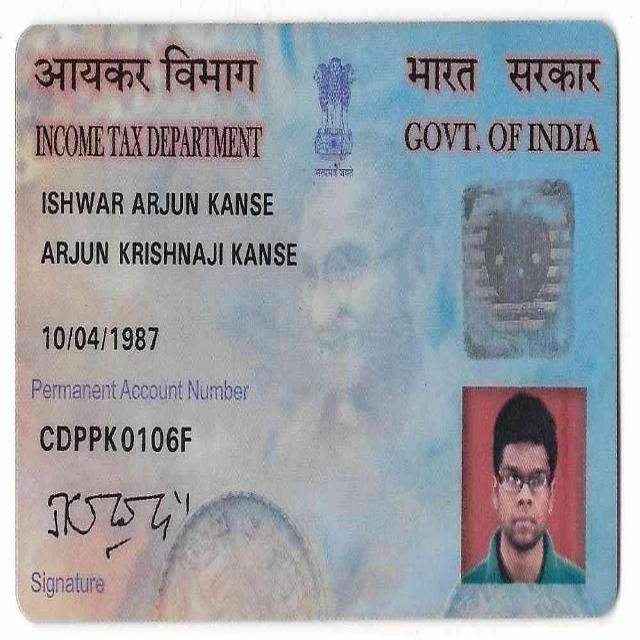pan_card: (18, 19, 616, 618)
